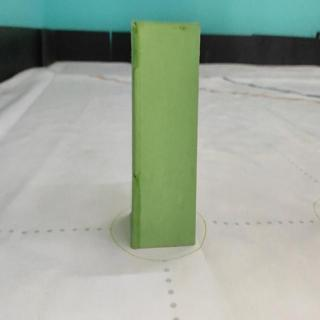greenbox: (129, 18, 201, 252)
